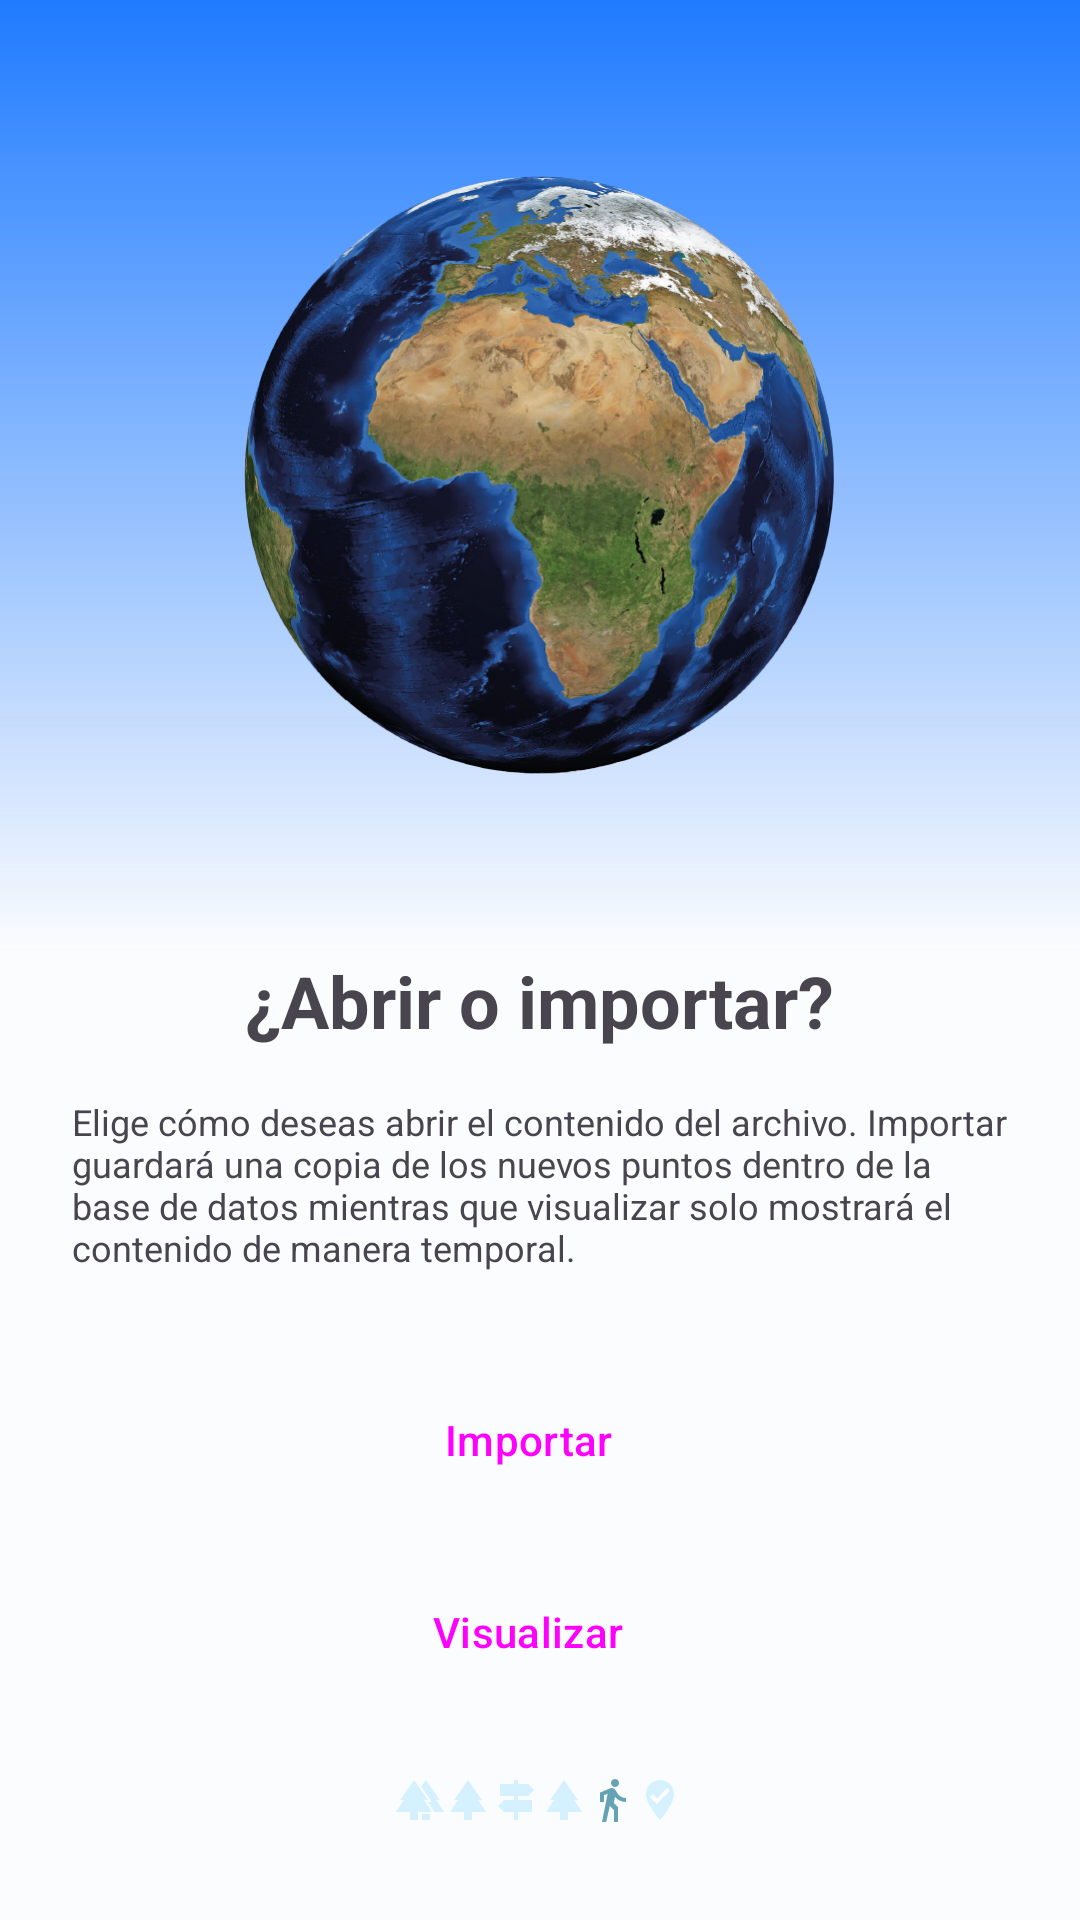

Screen size 1080px×1920px. Icon name, then its center in pixels as [x,y]:
arbol: [468,1800], [564,1800]
bosque: [420,1800]
caminar: [613,1800]
destino: [660,1799]
senal: [516,1800]
